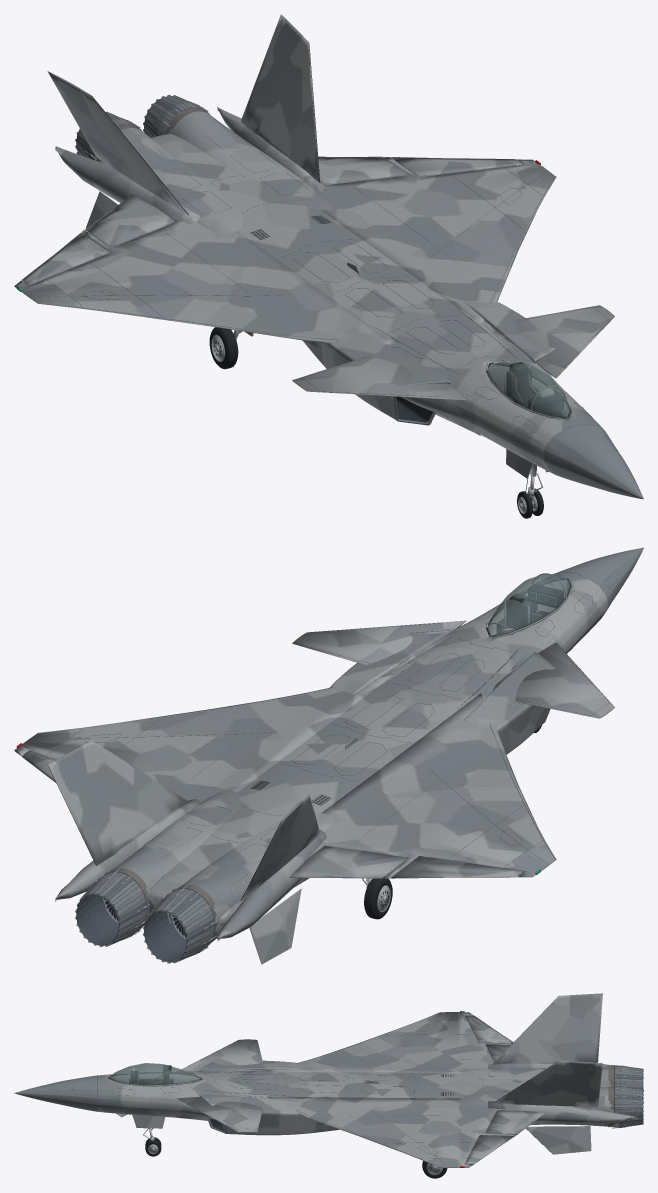
The model's file is j20-lite.glb.
3 views of the same model, one above another, from view 1: azimuth 30°, elevation 25°; view 2: azimuth 150°, elevation 25°; view 3: azimuth 270°, elevation 25° (orthographic). The views are drawn at different scales.
Visible parts, largest first — view 1: J20 | J20 • Cool gray polygon camouflage | mobile, J20 | J20 • Recessed panel shadow | mobile, J20 | J20 • Smoked gold blue canopy | mobile, J20 | J20 • Radome side facet variation | mobile, J20 | J20 • Radar nose dielectric gray | mobile, J20 | J20 • Edge coating | mobile, J20 | J20 • Titanium nozzle petals | mobile, J20 | J20 • Tire rubber | mobile, J20 | J20 • Canopy seals | mobile, J20 | J20 • Duct and exhaust interior | mobile, J20 | J20 • Cockpit charcoal upholstery | mobile, J20 | J20 • Heat discolored nozzle petals | mobile; view 2: J20 | J20 • Cool gray polygon camouflage | mobile, J20 | J20 • Dark heat treated liner | mobile, J20 | J20 • Titanium nozzle petals | mobile, J20 | J20 • Recessed panel shadow | mobile, J20 | J20 • Smoked gold blue canopy | mobile, J20 | J20 • Heat discolored nozzle petals | mobile, J20 | J20 • Edge coating | mobile, J20 | J20 • Radar nose dielectric gray | mobile, J20 | J20 • Canopy seals | mobile, J20 | J20 • Radome side facet variation | mobile, J20 | J20 • Tire rubber | mobile, J20 | J20 • Cockpit charcoal upholstery | mobile (+2 smaller); view 3: J20 | J20 • Cool gray polygon camouflage | mobile, J20 | J20 • Smoked gold blue canopy | mobile, J20 | J20 • Recessed panel shadow | mobile, J20 | J20 • Titanium nozzle petals | mobile, J20 | J20 • Radome side facet variation | mobile, J20 | J20 • Heat discolored nozzle petals | mobile, J20 | J20 • Edge coating | mobile, J20 | J20 • Radar nose dielectric gray | mobile, J20 | J20 • Tire rubber | mobile, J20 | J20 • Canopy seals | mobile, J20 | J20 • Oxidized titanium collar | mobile, J20 | J20 • Brushed steel mechanisms | mobile.
Part boxes in pixels (box(x1,y1,x2,y2)): J20 | J20 • Cool gray polygon camouflage | mobile: box(14, 14, 614, 478); J20 | J20 • Recessed panel shadow | mobile: box(22, 81, 617, 474); J20 | J20 • Smoked gold blue canopy | mobile: box(488, 362, 570, 417); J20 | J20 • Radome side facet variation | mobile: box(544, 427, 643, 499); J20 | J20 • Radar nose dielectric gray | mobile: box(400, 413, 643, 498); J20 | J20 • Edge coating | mobile: box(37, 176, 586, 472); J20 | J20 • Titanium nozzle petals | mobile: box(75, 95, 199, 158); J20 | J20 • Tire rubber | mobile: box(209, 327, 543, 518); J20 | J20 • Canopy seals | mobile: box(234, 331, 571, 503); J20 | J20 • Duct and exhaust interior | mobile: box(213, 215, 548, 510); J20 | J20 • Cockpit charcoal upholstery | mobile: box(506, 368, 566, 416); J20 | J20 • Heat discolored nozzle petals | mobile: box(75, 95, 209, 159); J20 | J20 • Cool gray polygon camouflage | mobile: box(14, 572, 614, 964); J20 | J20 • Dark heat treated liner | mobile: box(76, 876, 212, 962); J20 | J20 • Titanium nozzle petals | mobile: box(75, 872, 214, 963); J20 | J20 • Recessed panel shadow | mobile: box(22, 572, 617, 884); J20 | J20 • Smoked gold blue canopy | mobile: box(487, 574, 570, 636); J20 | J20 • Heat discolored nozzle petals | mobile: box(75, 871, 215, 963); J20 | J20 • Edge coating | mobile: box(37, 573, 586, 859); J20 | J20 • Radar nose dielectric gray | mobile: box(557, 547, 643, 584); J20 | J20 • Canopy seals | mobile: box(371, 578, 571, 879); J20 | J20 • Radome side facet variation | mobile: box(599, 548, 643, 608); J20 | J20 • Tire rubber | mobile: box(364, 725, 541, 919); J20 | J20 • Cockpit charcoal upholstery | mobile: box(497, 599, 543, 633); J20 | J20 • Cool gray polygon camouflage | mobile: box(97, 993, 637, 1167); J20 | J20 • Smoked gold blue canopy | mobile: box(109, 1063, 201, 1084); J20 | J20 • Recessed panel shadow | mobile: box(69, 1014, 593, 1164); J20 | J20 • Titanium nozzle petals | mobile: box(615, 1066, 643, 1127); J20 | J20 • Radome side facet variation | mobile: box(14, 1089, 97, 1111); J20 | J20 • Heat discolored nozzle petals | mobile: box(614, 1065, 643, 1127); J20 | J20 • Edge coating | mobile: box(108, 1012, 440, 1167); J20 | J20 • Radar nose dielectric gray | mobile: box(15, 1075, 223, 1131); J20 | J20 • Tire rubber | mobile: box(145, 1137, 447, 1178); J20 | J20 • Canopy seals | mobile: box(108, 1065, 202, 1085); J20 | J20 • Oxidized titanium collar | mobile: box(608, 1066, 615, 1127); J20 | J20 • Brushed steel mechanisms | mobile: box(150, 1065, 626, 1172).
Bounding box in the file's own units: 11.9 × 4.5 × 20.3.
24 materials, 1 textured.
